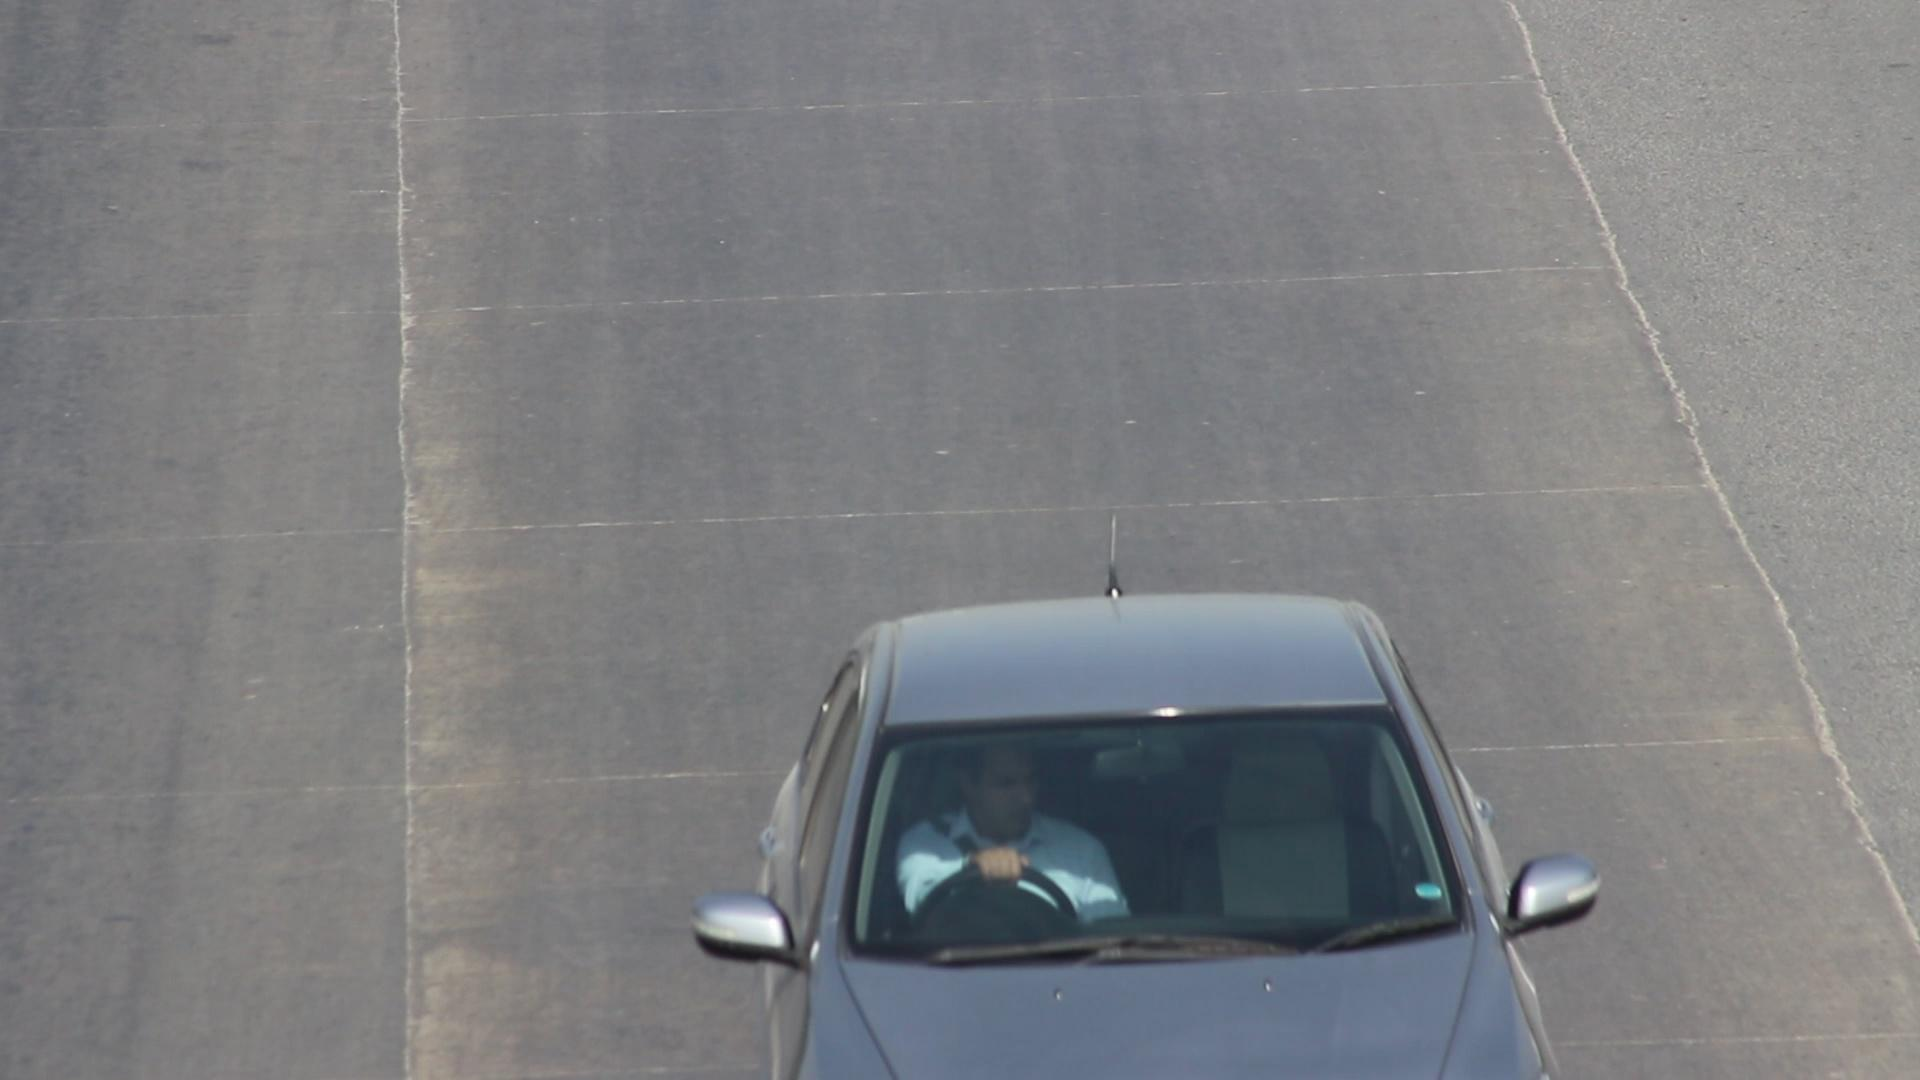windshield: (820, 690, 1497, 977)
